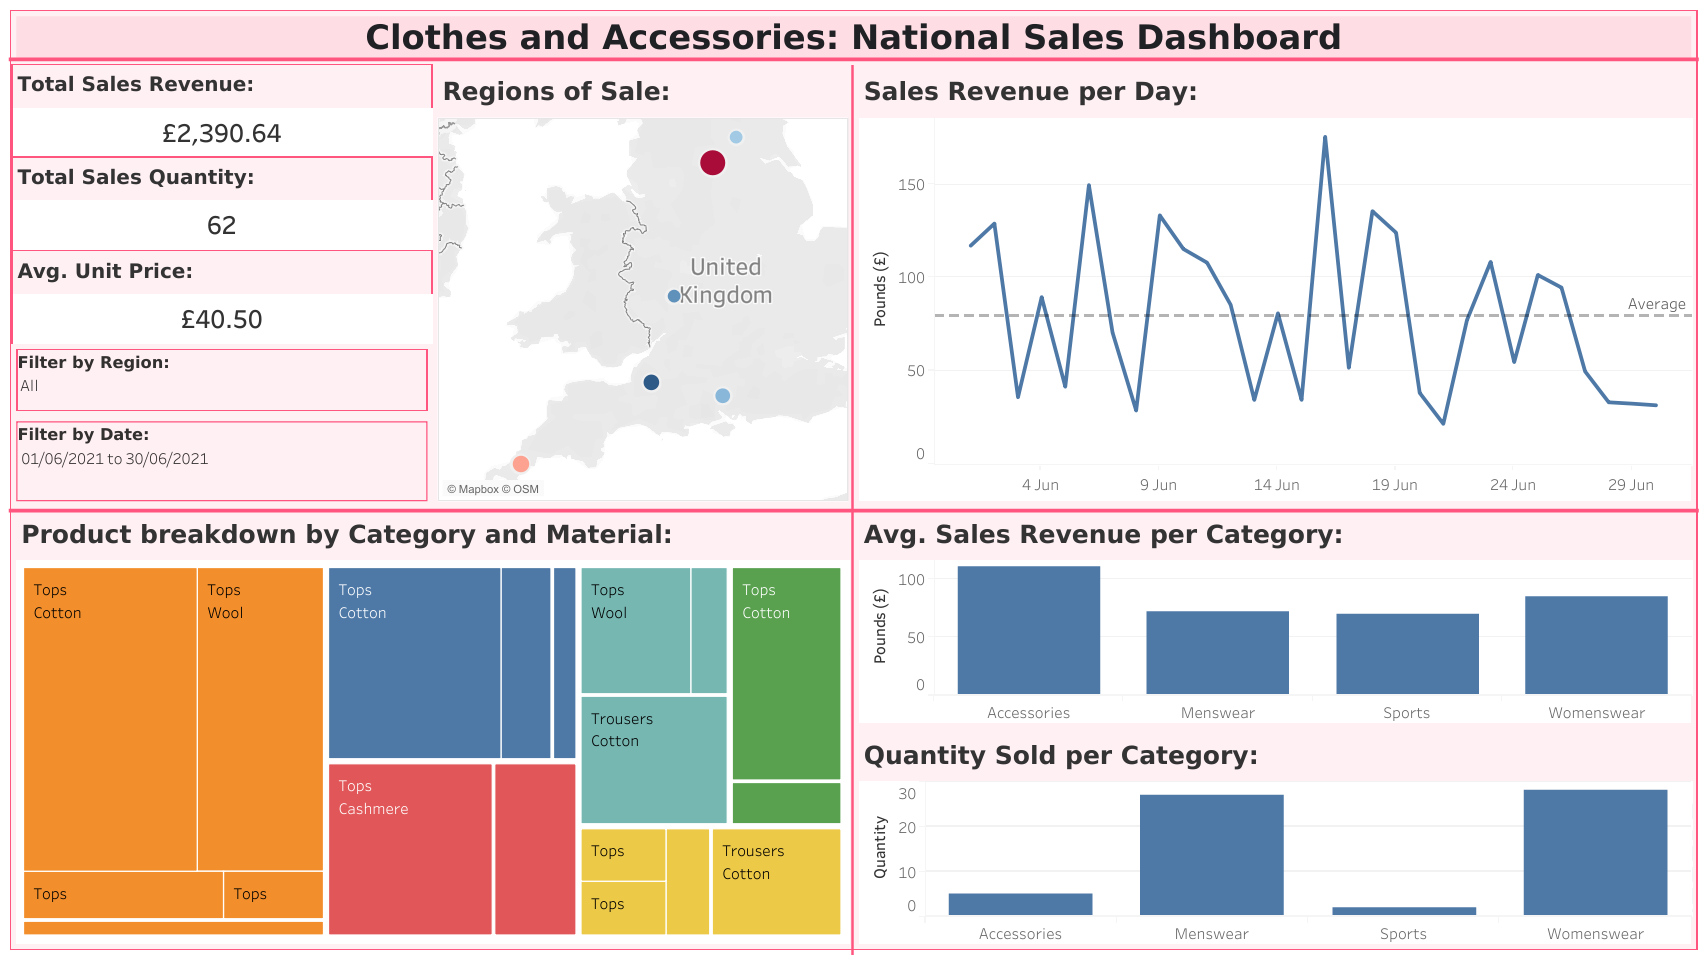

This screenshot's page, from the dashboard's own definition file:
{"tool":"tableau","page":{"name":"Dashboard 1","canvas":[1366,768],"ordinal":0},"visuals":[{"type":"text","box":[9,9,1348,41.7]},{"type":"blank","box":[6.8,46.1,1352.3,2.6]},{"type":"worksheet","title":"Sheet 8","mark":"Automatic","box":[9,50.7,336.9,76.7]},{"type":"worksheet","title":"Sheet 1","mark":"Automatic","rows":["Latitude"],"cols":["Longitude"],"box":[345.9,50.7,337.1,354.1]},{"type":"worksheet","title":"Sheet 2","mark":"Automatic","rows":["Sales_Revenue"],"cols":["Date"],"box":[683,50.7,674,354.1]},{"type":"blank","box":[680.9,51.7,1.7,711.8]},{"type":"worksheet","title":"Sheet 9","mark":"Automatic","box":[9,127.4,336.9,76.7]},{"type":"worksheet","title":"Sheet 10","mark":"Automatic","box":[9,204.1,336.9,76.7]},{"type":"filter","title":"Sheet 7","param":"[federated.16oa9oz1e1gbfa16bho3t16tfzcu].[none:Region:nk]","box":[9,280.8,336.9,65]},{"type":"filter","title":"Sheet 2","param":"[federated.16oa9oz1e1gbfa16bho3t16tfzcu].[none:Date:qk]","box":[9,345.8,336.9,59]},{"type":"worksheet","title":"Sheet 7","mark":"Automatic","box":[9,405,674,354]},{"type":"worksheet","title":"Sheet 3","mark":"Automatic","rows":["Sales_Revenue"],"cols":["Product_Category"],"box":[683,405,674,177]},{"type":"blank","box":[6.8,407,1352.3,2.6]},{"type":"worksheet","title":"Sheet 4","mark":"Automatic","rows":["Quantity"],"cols":["Product_Category"],"box":[683,582,674,177]}]}

Visuals, with their boxes in screenshot pixels (x1, y1, x2, y2), scaled from the page's 1366x768 canvas onto the 1706x959 screenshot:
text: rect(11, 11, 1695, 63)
blank: rect(8, 58, 1697, 61)
"Sheet 8" worksheet: rect(11, 63, 432, 159)
"Sheet 1" worksheet: rect(432, 63, 853, 505)
"Sheet 2" worksheet: rect(853, 63, 1695, 505)
blank: rect(850, 65, 853, 953)
"Sheet 9" worksheet: rect(11, 159, 432, 255)
"Sheet 10" worksheet: rect(11, 255, 432, 351)
"Sheet 7" filter: rect(11, 351, 432, 432)
"Sheet 2" filter: rect(11, 432, 432, 505)
"Sheet 7" worksheet: rect(11, 506, 853, 948)
"Sheet 3" worksheet: rect(853, 506, 1695, 727)
blank: rect(8, 508, 1697, 511)
"Sheet 4" worksheet: rect(853, 727, 1695, 948)
